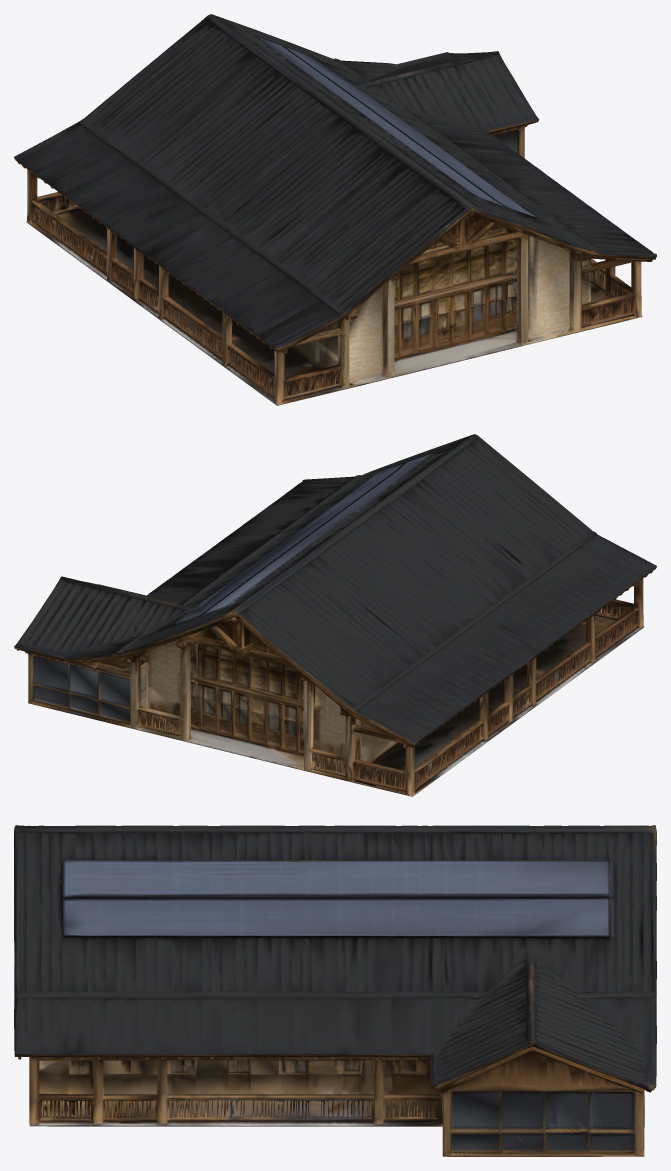
The model's file is jd-event-center.glb.
3 renders of one model, top to bottom at view 1: azimuth 30°, elevation 25°; view 2: azimuth 150°, elevation 25°; view 3: azimuth 270°, elevation 25°, orthographic. The views are drawn at different scales.
Visible parts, largest first — view 1: node_0; view 2: node_0; view 3: node_0.
Part boxes in pixels (x1,y1,x2,y2): node_0: (14,14,656,405); node_0: (14,434,656,796); node_0: (14,825,656,1156).
Bounding box in the file's own units: 0.829 × 0.2894 × 0.8677.
1 material, 1 textured.
